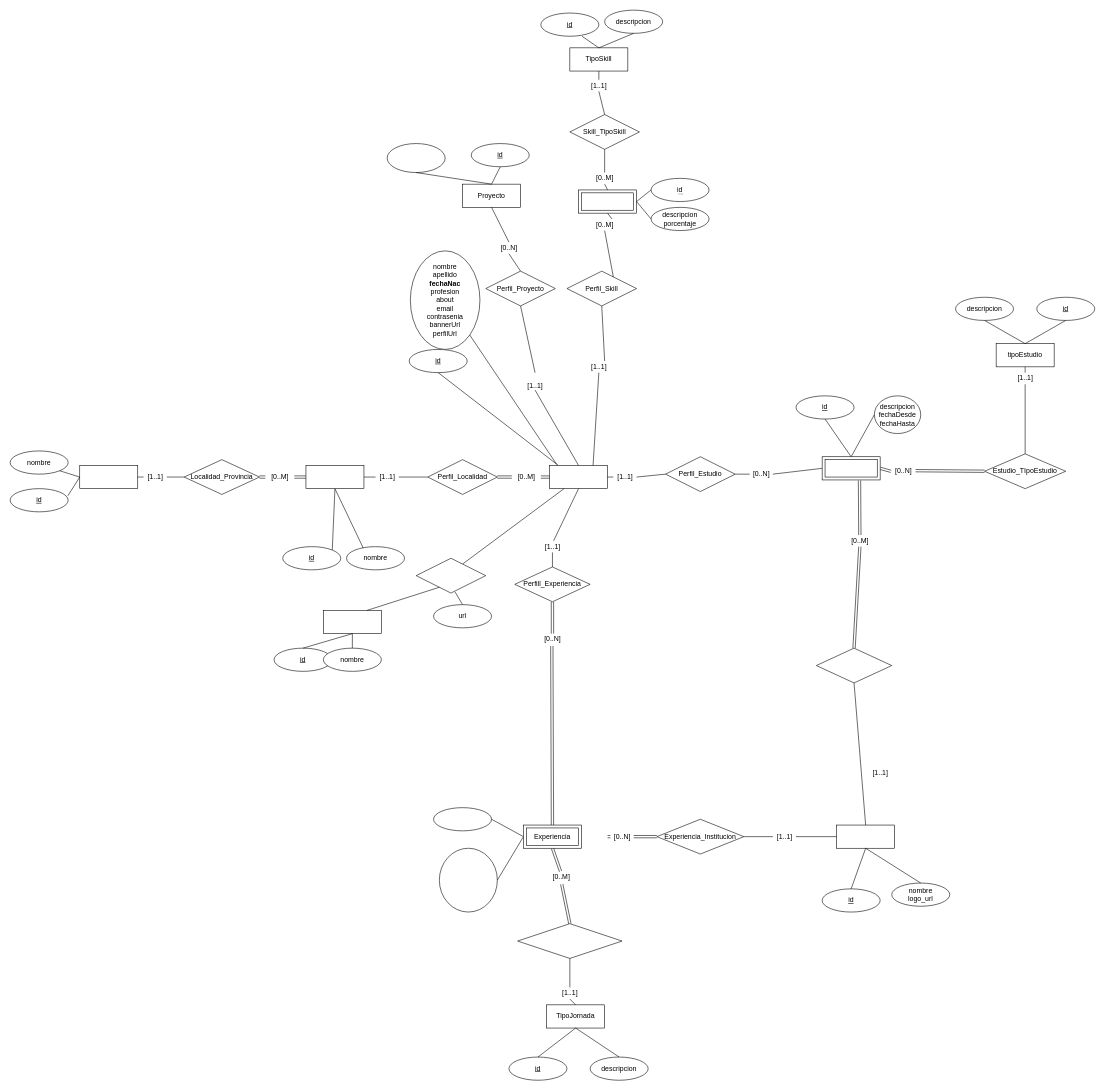
Some shapes in this 1105 by 1090 pixel diagram are drawn without their labels. Here are the shapes that lost their labels. From the top down, the centre of each, then its label:
At point 416,158: "nombre descripcion url".
At point 607,201: "Skill".
At point 108,477: "Provincia".
At point 334,477: "Localidad".
At point 578,477: "Perfil".
At point 851,468: "Estudio".
At point 451,575: "Perfil_RedSocial".
At point 352,622: "RedSocial".
At point 854,665: "Estudio_Institucion".
At point 462,819: "numExp".
At point 865,836: "Institucion".
At point 468,880: "cargo fecha_desde fecha_hasta fondo_url".
At point 569,940: "Experiencia_TipoJornada".
